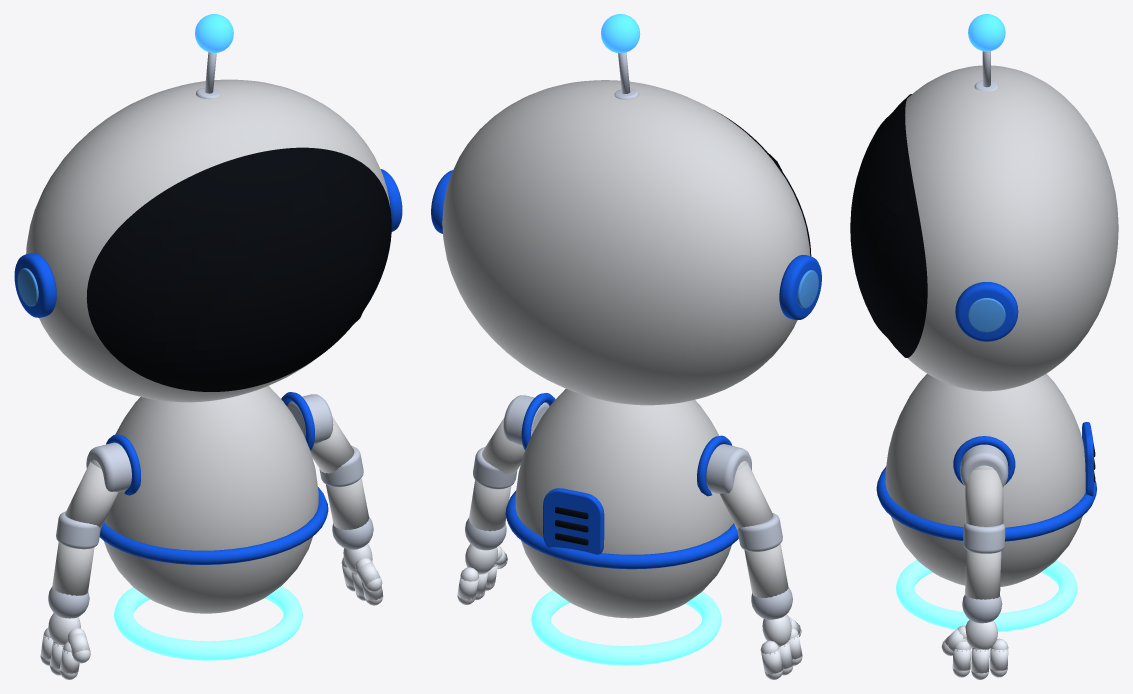
File: capsula.glb
The picture shows the model from 3 angles, left to right: view 1: azimuth 30°, elevation 25°; view 2: azimuth 150°, elevation 25°; view 3: azimuth 270°, elevation 25°; orthographic projection. The views are drawn at different scales.
Visible parts, largest first — view 1: Head, Body, FaceScreen, Visor, HoverRing, WaistBand, Arm_R, Forearm_R, Forearm_L, Ear_R, Shoulder_R, Arm_L (+15 smaller); view 2: Head, Body, HoverRing, WaistBand, BackPanel, Arm_R, Forearm_R, Ear_R, Forearm_L, Shoulder_R, Fingers_R, Arm_L (+14 smaller); view 3: Head, Body, Visor, FaceScreen, HoverRing, WaistBand, Arm_L, Ear_L, Fingers_L, Forearm_L, Shoulder_L, ElbowJoint_L (+8 smaller).
Boxes of the visible parts, left/top/right/bottom form: Head: left=26, top=79, right=390, bottom=402; Body: left=104, top=386, right=318, bottom=613; FaceScreen: left=139, top=165, right=372, bottom=372; Visor: left=86, top=147, right=391, bottom=391; HoverRing: left=114, top=586, right=302, bottom=660; WaistBand: left=99, top=487, right=328, bottom=564; Arm_R: left=65, top=459, right=118, bottom=528; Forearm_R: left=52, top=542, right=94, bottom=595; Forearm_L: left=326, top=478, right=369, bottom=529; Ear_R: left=14, top=253, right=56, bottom=317; Shoulder_R: left=86, top=442, right=131, bottom=492; Arm_L: left=310, top=416, right=354, bottom=473; Head: left=442, top=80, right=810, bottom=405; Body: left=515, top=389, right=733, bottom=618; HoverRing: left=531, top=590, right=721, bottom=665; WaistBand: left=505, top=490, right=738, bottom=569; BackPanel: left=543, top=488, right=604, bottom=554; Arm_R: left=720, top=461, right=773, bottom=529; Forearm_R: left=744, top=543, right=788, bottom=597; Ear_R: left=779, top=255, right=821, bottom=320; Forearm_L: left=469, top=480, right=511, bottom=531; Shoulder_R: left=706, top=444, right=751, bottom=493; Fingers_R: left=760, top=628, right=802, bottom=679; Arm_L: left=482, top=417, right=524, bottom=474; Head: left=905, top=65, right=1118, bottom=391; Body: left=885, top=374, right=1085, bottom=586; Visor: left=870, top=94, right=927, bottom=357; FaceScreen: left=850, top=114, right=909, bottom=350; HoverRing: left=896, top=560, right=1077, bottom=631; WaistBand: left=876, top=466, right=1096, bottom=541; Arm_L: left=965, top=465, right=1003, bottom=526; Ear_L: left=955, top=282, right=1018, bottom=341; Fingers_L: left=952, top=638, right=1008, bottom=679; Forearm_L: left=965, top=550, right=1001, bottom=599; Shoulder_L: left=960, top=444, right=1008, bottom=487; ElbowJoint_L: left=963, top=523, right=1005, bottom=553.
Bounding box in the file's own units: 0.643 × 1.04 × 0.4275.
